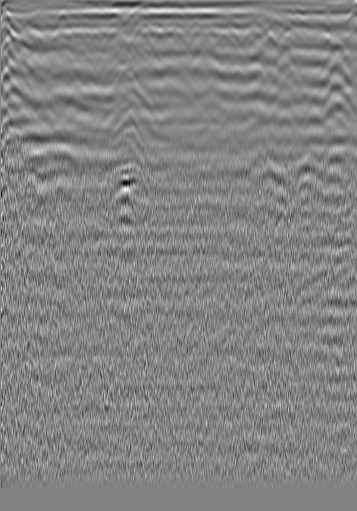가스: (103, 177, 147, 210)
상수: (18, 16, 38, 36)
오수: (297, 19, 317, 39)
우수: (163, 21, 183, 41)
